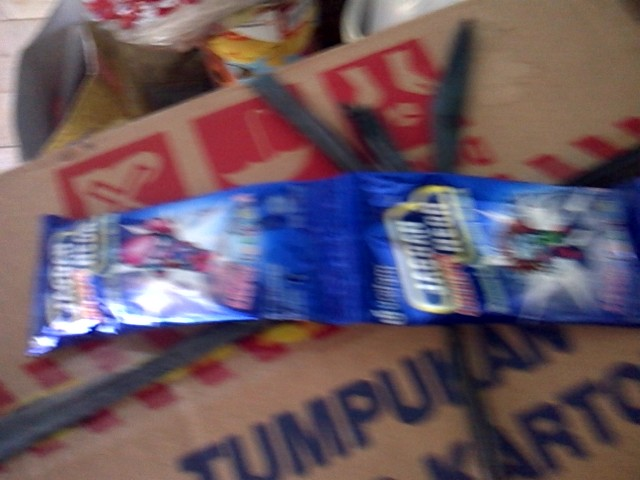jagoan neon: (27, 176, 339, 359), (341, 172, 640, 325)
